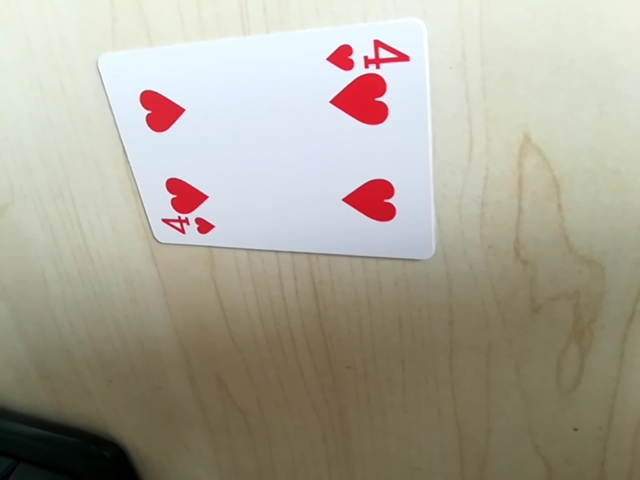hx 4: (324, 30, 412, 76), (154, 213, 217, 246)
